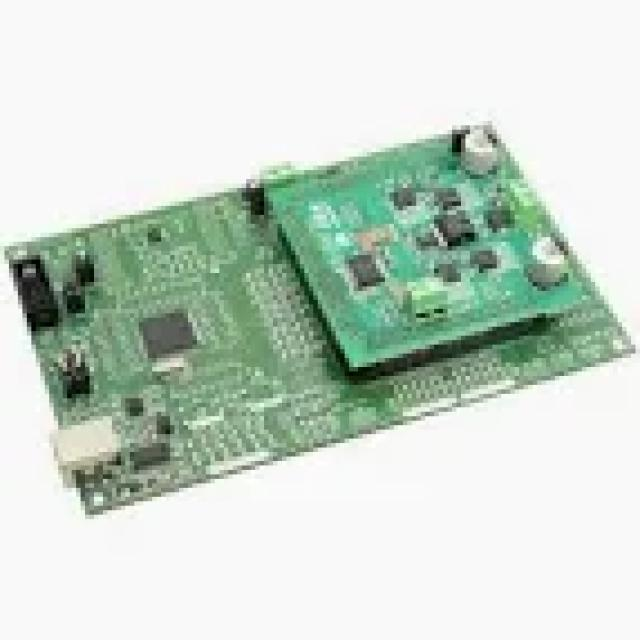pcb: (0, 112, 636, 515), (255, 116, 586, 376)
